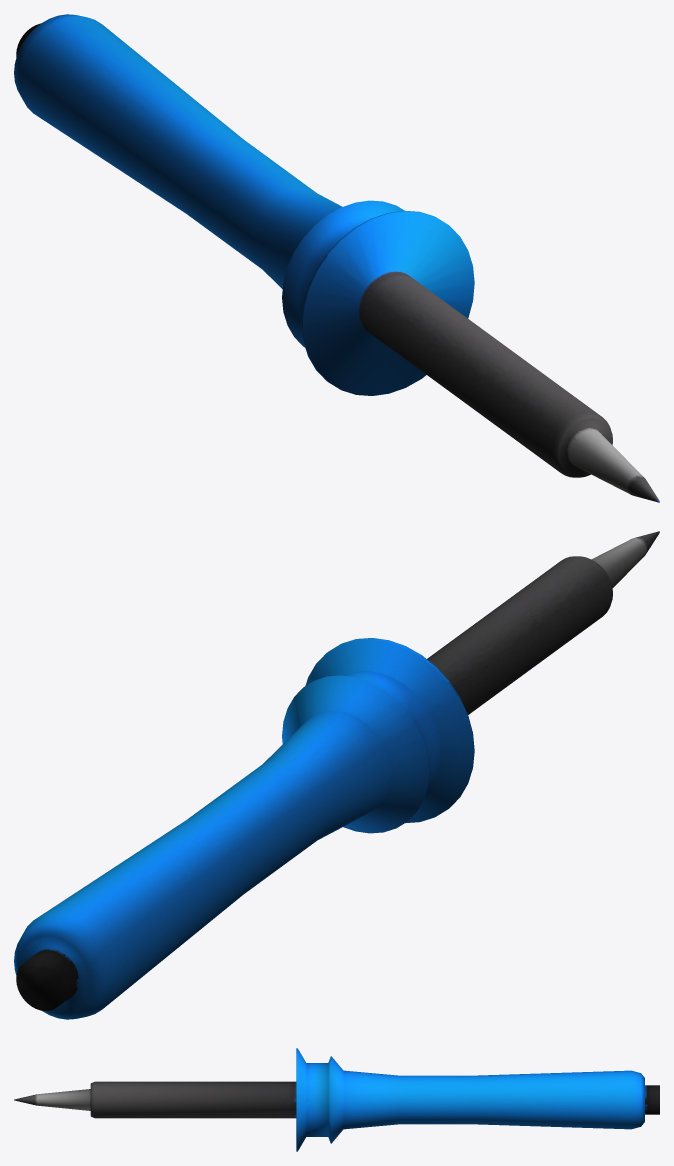
The model's file is はんだごて.fbx.
3 views of the same model, one above another, from view 1: azimuth 30°, elevation 25°; view 2: azimuth 150°, elevation 25°; view 3: azimuth 270°, elevation 25° (orthographic). The views are drawn at different scales.
Parts seen in each view (by area): view 1: 円柱; view 2: 円柱; view 3: 円柱.
Boxes of the visible parts, x1,y1,x2,y2 form: 円柱: (14,14,659,502); 円柱: (14,531,659,1019); 円柱: (14,1048,659,1151).
Bounding box in the file's own units: 3.51 × 3.51 × 21.95.
Materials: 1 (1 with a texture image).
